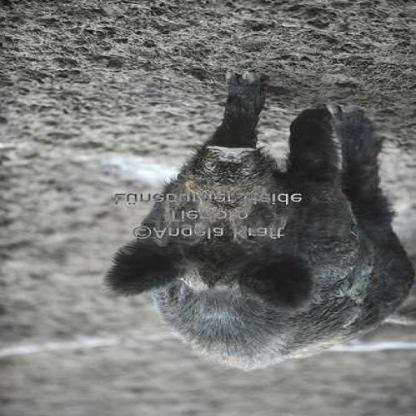boar: (117, 64, 390, 375)
